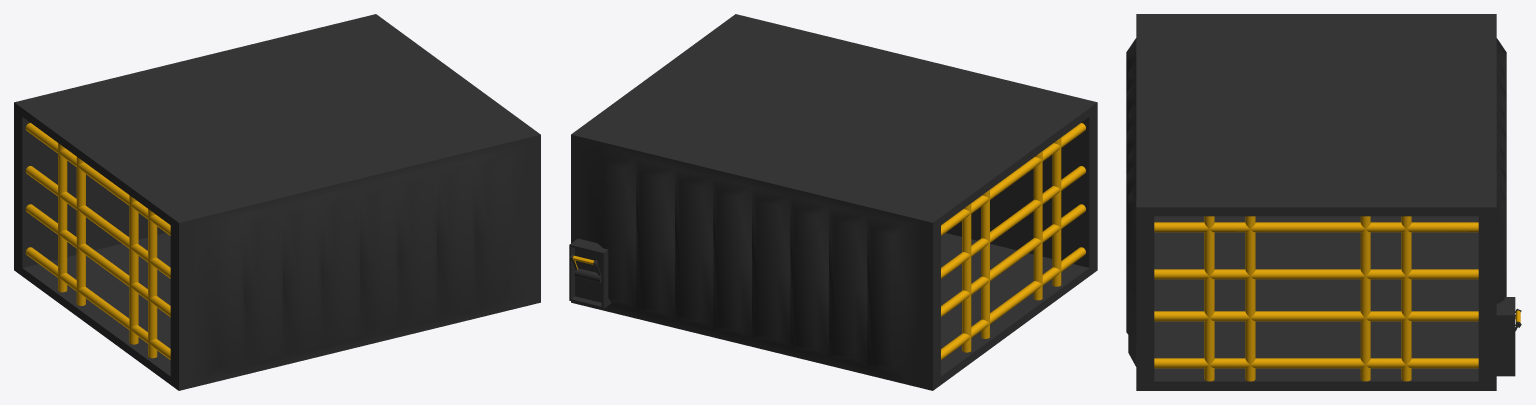
The model's file is vtol crate closed SNAPSHOT.fbx.
3 views of the same model, side by side, from view 1: azimuth 30°, elevation 25°; view 2: azimuth 150°, elevation 25°; view 3: azimuth 270°, elevation 25° (orthographic). The views are drawn at different scales.
Visible parts, largest first — view 1: polySurface40; view 2: polySurface40; view 3: polySurface40.
Part boxes in pixels (x1,y1,x2,y2): polySurface40: [14, 14, 540, 390]; polySurface40: [569, 14, 1097, 390]; polySurface40: [1126, 14, 1521, 390].
Size of the model in its own units: 1619 by 718 by 1401.
